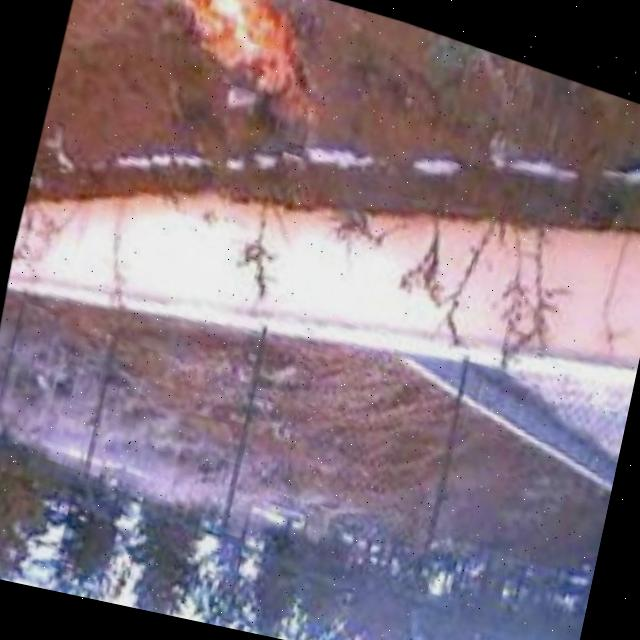fire: (119, 0, 354, 147)
